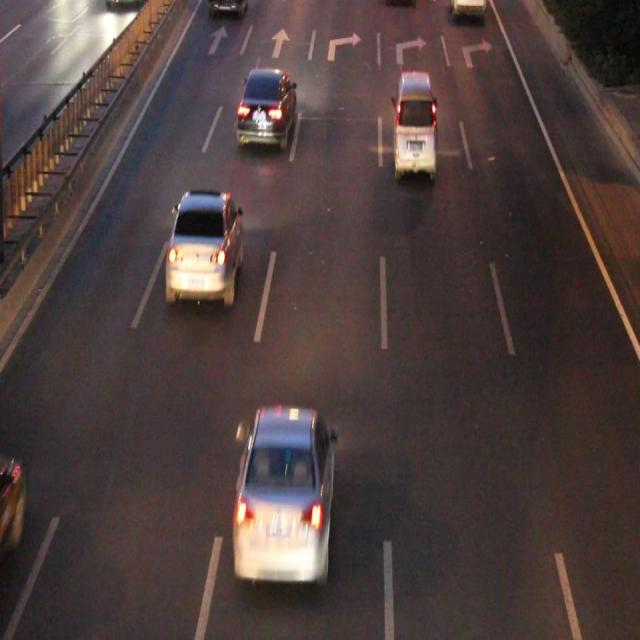car: (236, 409, 330, 578), (167, 193, 240, 296), (237, 70, 294, 142), (1, 455, 23, 578), (208, 2, 245, 15)
truck: (393, 73, 435, 175), (450, 1, 483, 14)
